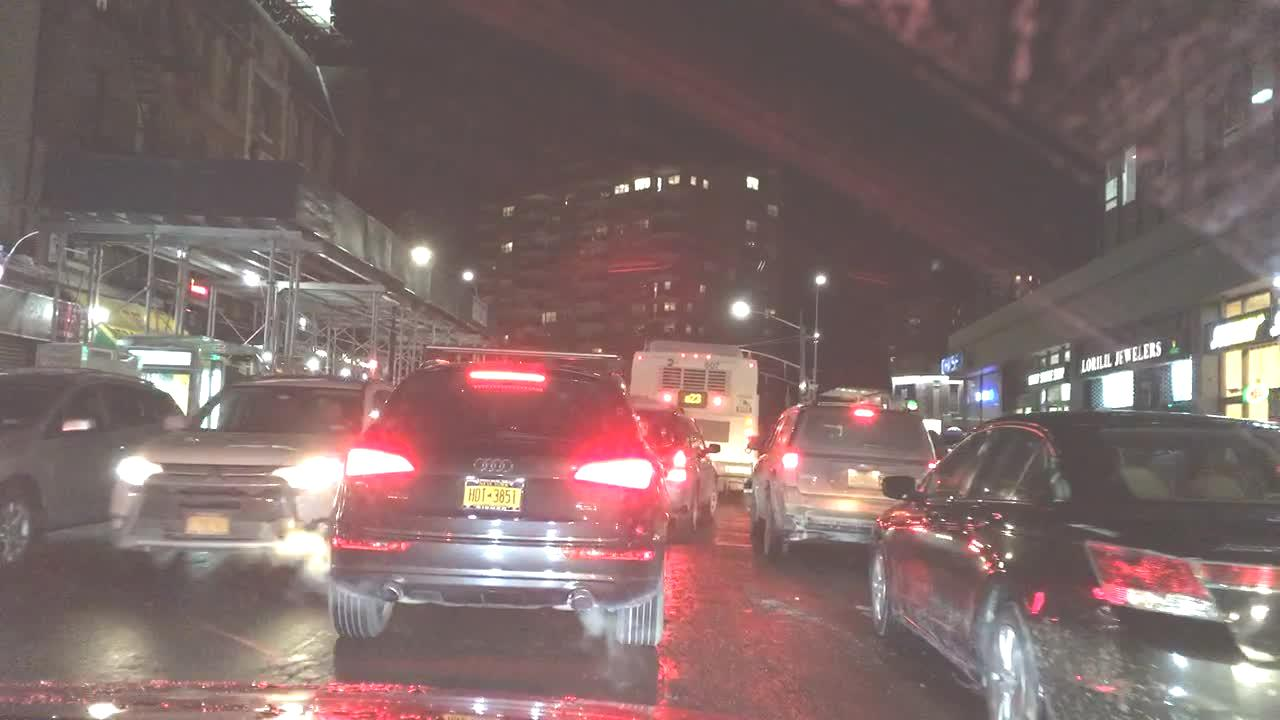Audi: (469, 452, 527, 484)
